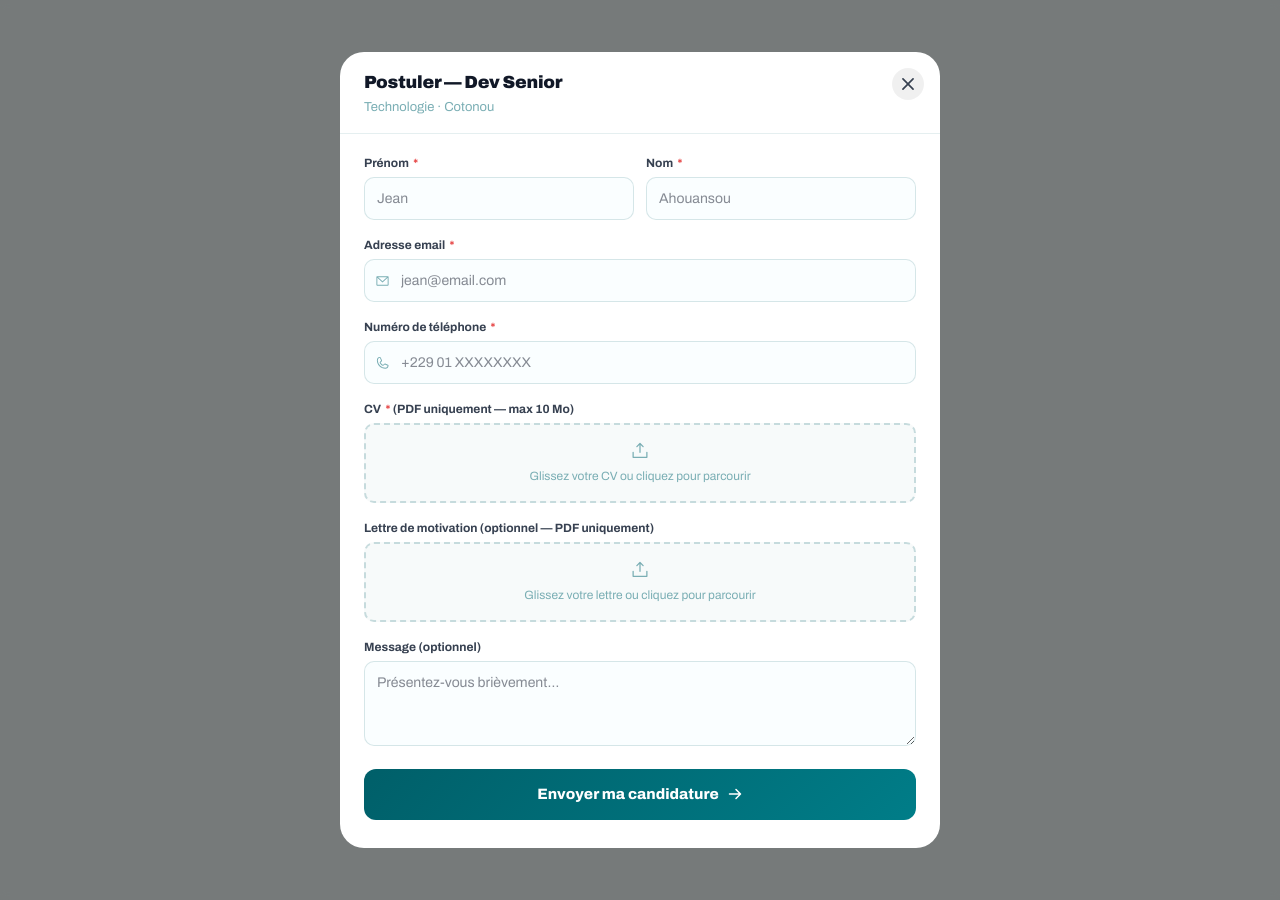
Test: ApplicationModal — validation › valide le format téléphone béninois
Type "0600000000" into the field with placeholder "+229 01 XXXXXXXX" at (640, 362), box top-left (364, 341), bottom-right (916, 384)
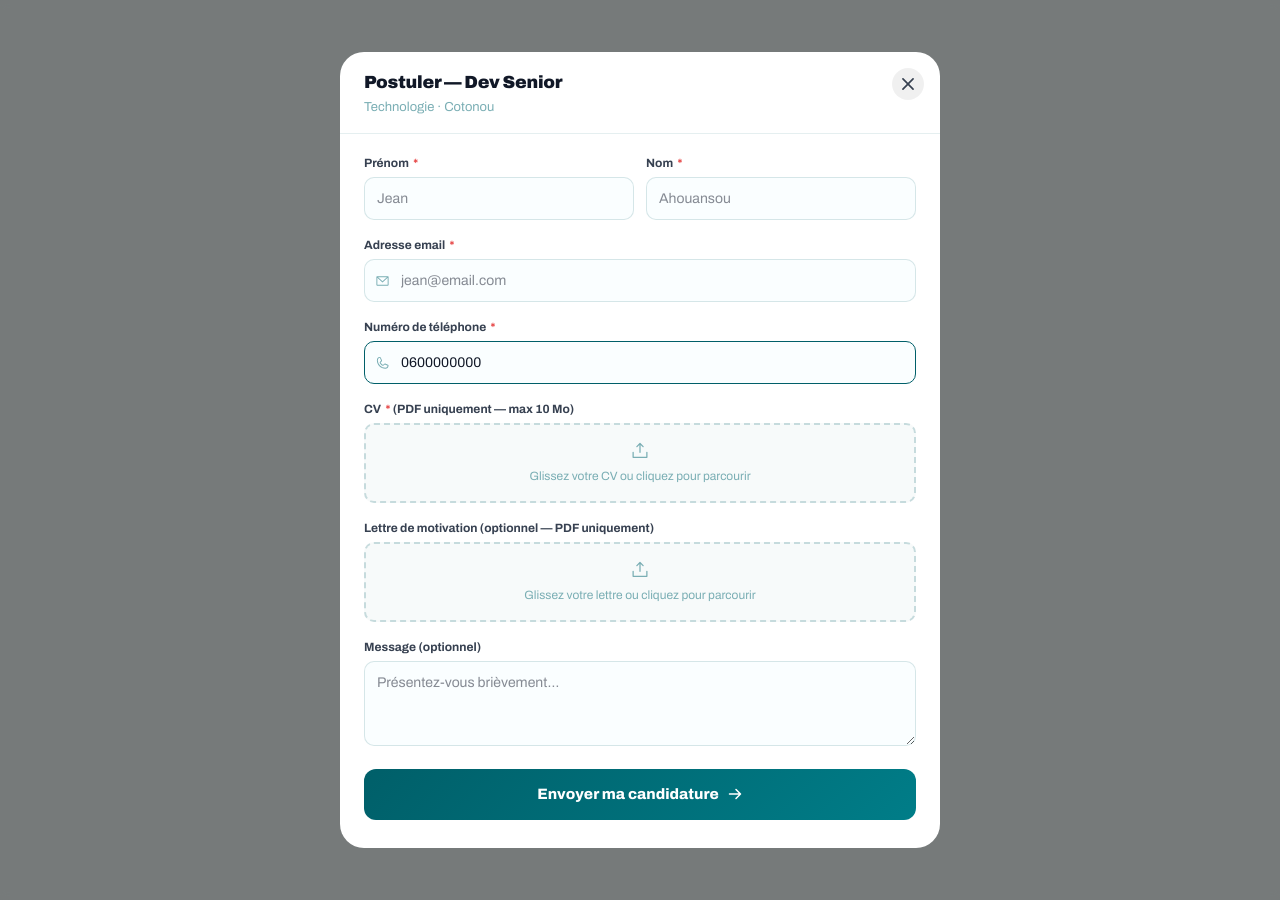
Click the button "Envoyer ma candidature" at (640, 794), box top-left (364, 769), bottom-right (916, 820)
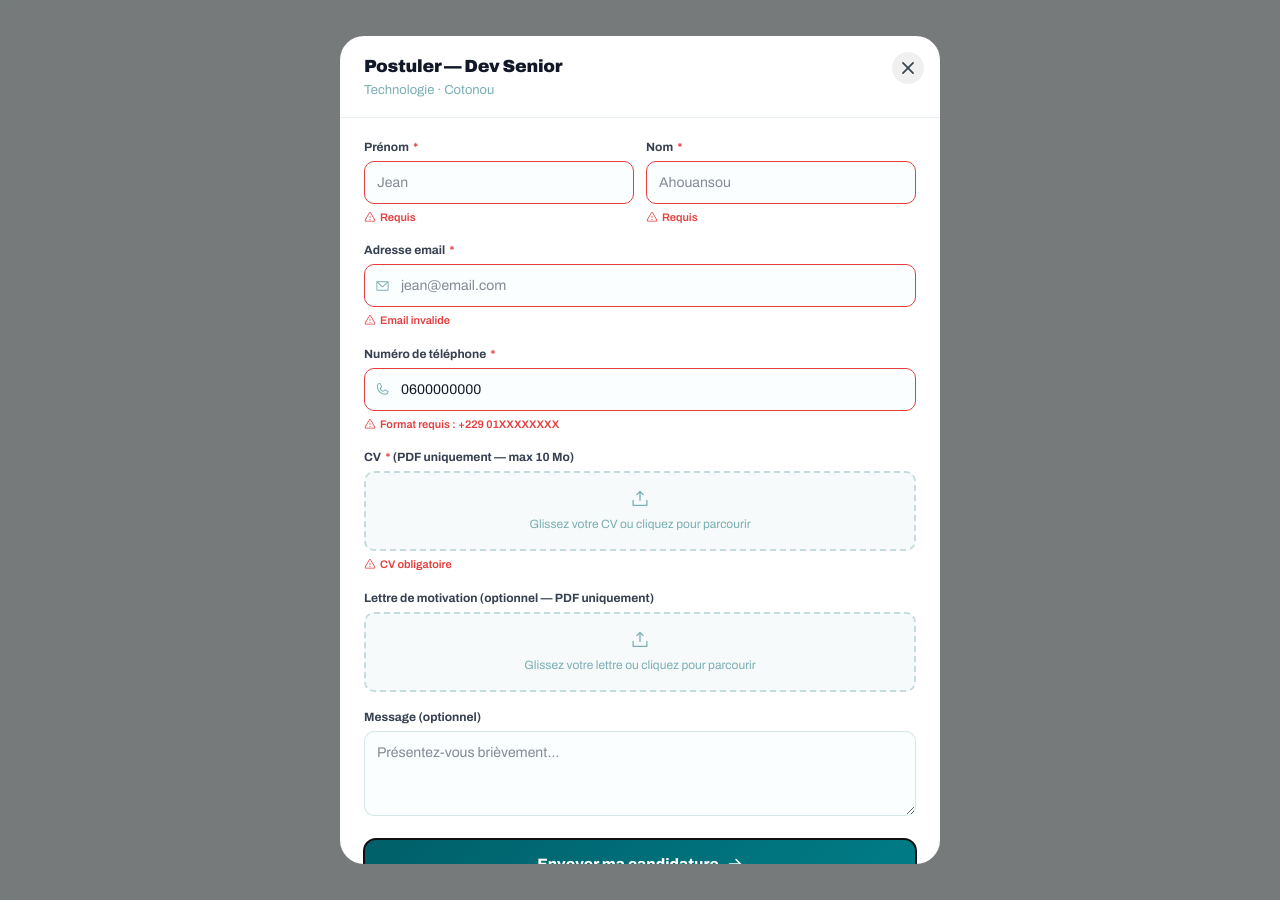
expect the text "Format requis : +229 01XXXXXXXX" is shown: met, box top-left (364, 418), bottom-right (559, 430)
